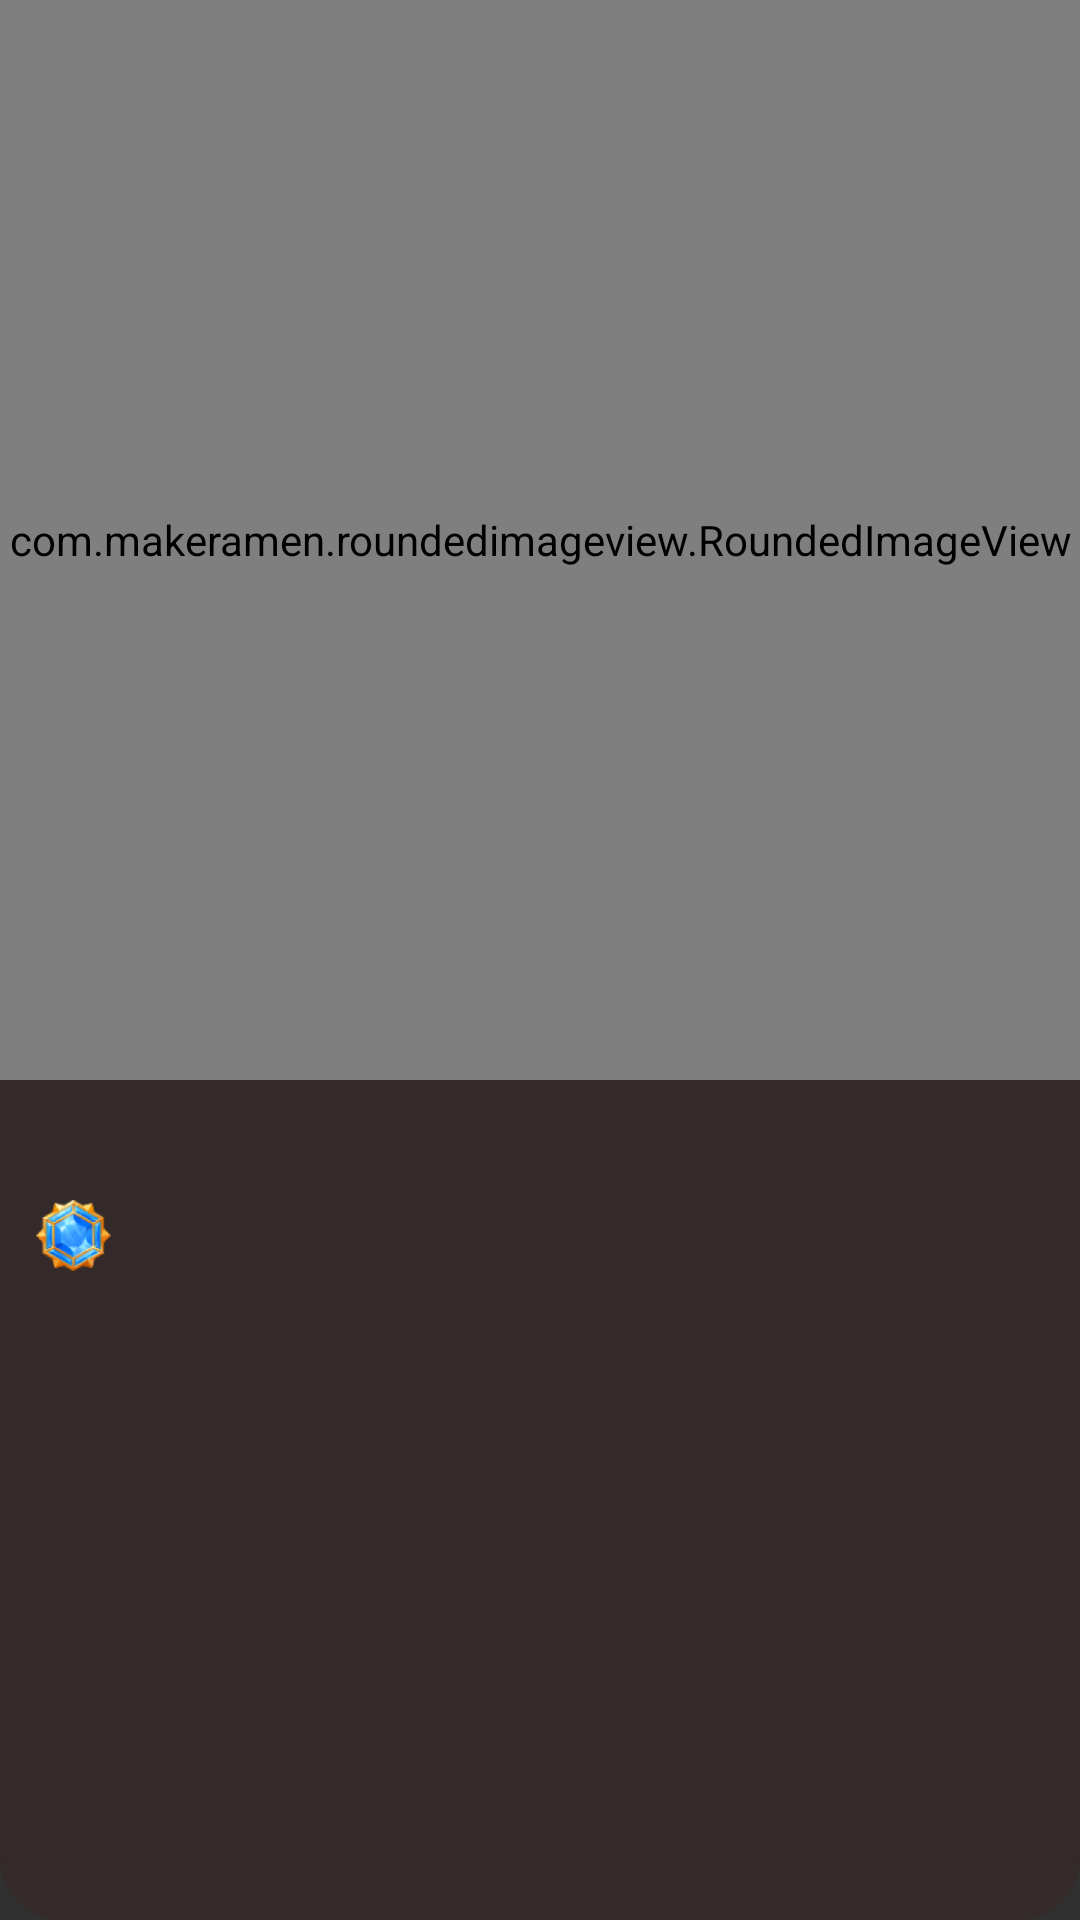

Screen size 1080x1920. Icon name, then its center in pixels as (x,y):
diamond: (73,1235)
